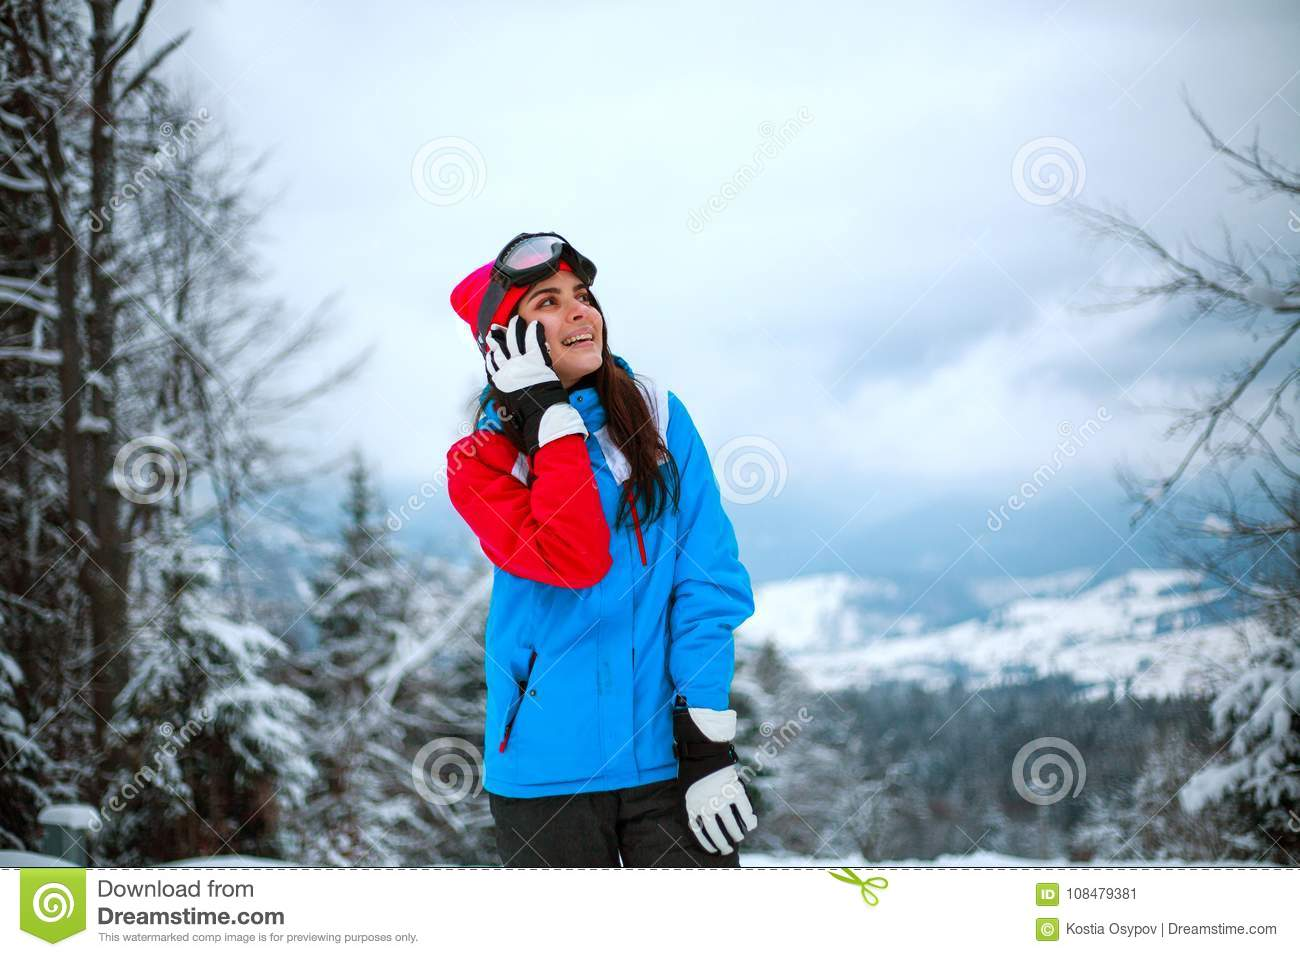talk: (485, 284, 606, 388)
